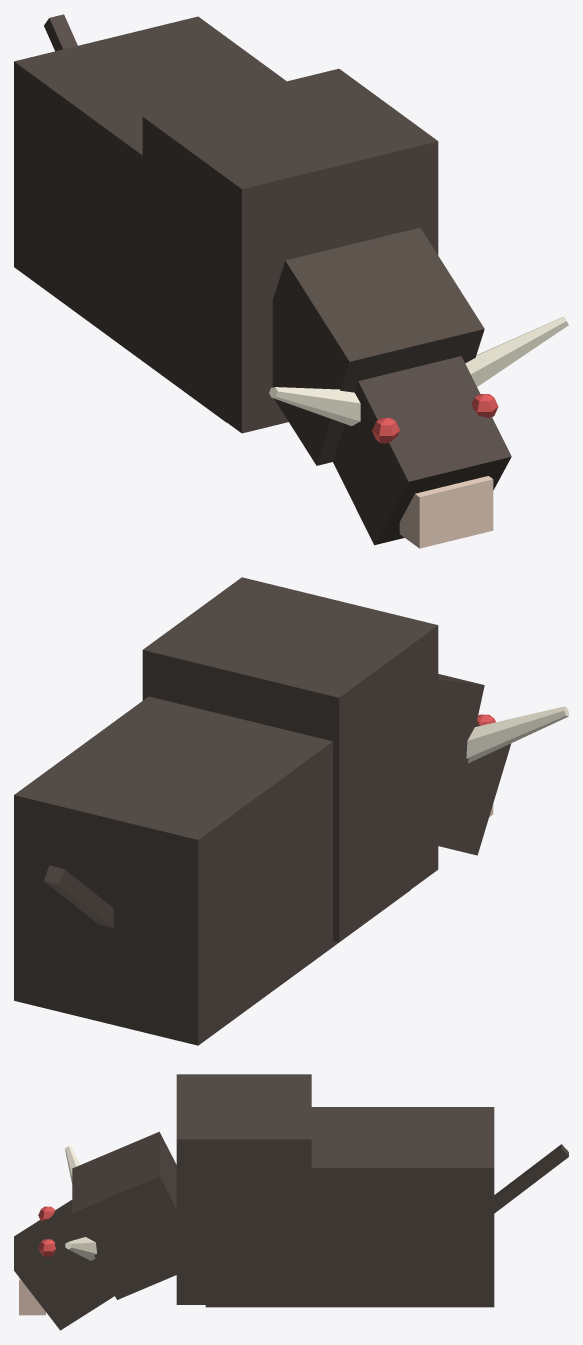
Rendered from VJ_Toro.fbx.
The picture shows the model from 3 angles, top to bottom: view 1: azimuth 30°, elevation 25°; view 2: azimuth 150°, elevation 25°; view 3: azimuth 270°, elevation 25°; orthographic projection. The views are drawn at different scales.
Visible parts, largest first — view 1: VJ_Toro; view 2: VJ_Toro; view 3: VJ_Toro.
Boxes of the visible parts, x1,y1,x2,y2 form: VJ_Toro: (14, 14, 568, 548); VJ_Toro: (14, 577, 568, 1045); VJ_Toro: (14, 1074, 568, 1330).
Bounding box in the file's own units: 1.21 × 1.18 × 2.88.
